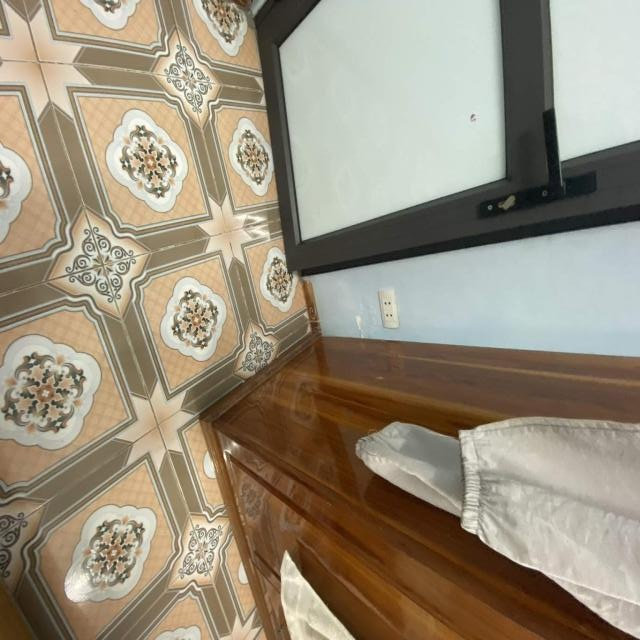outlet: (378, 288, 400, 329)
